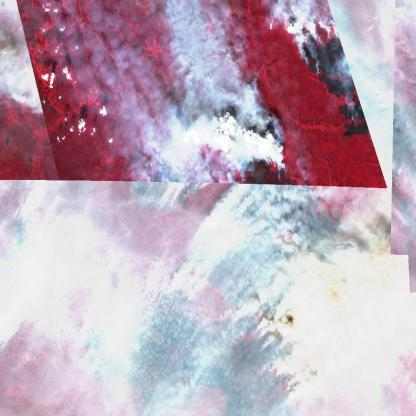fire: (229, 308, 312, 416), (126, 150, 206, 214), (232, 129, 291, 189), (294, 23, 343, 80), (12, 209, 39, 257)
